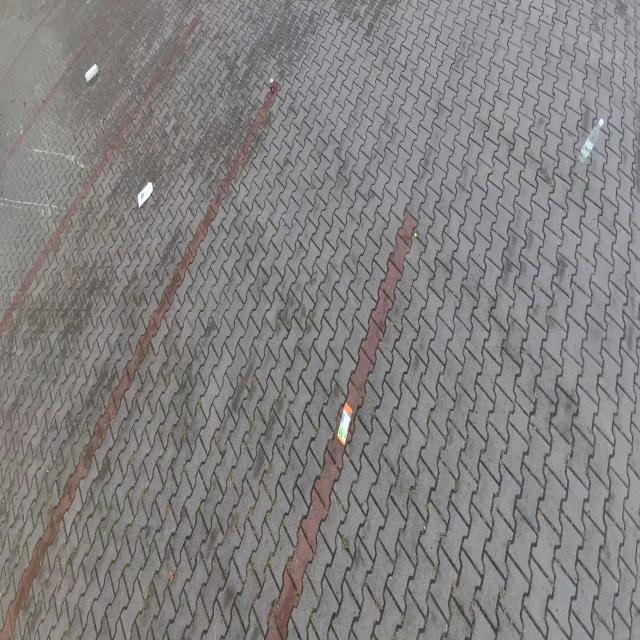rubbish: (578, 119, 603, 165), (336, 402, 353, 448), (137, 182, 153, 210), (85, 64, 100, 85), (269, 79, 275, 94)
